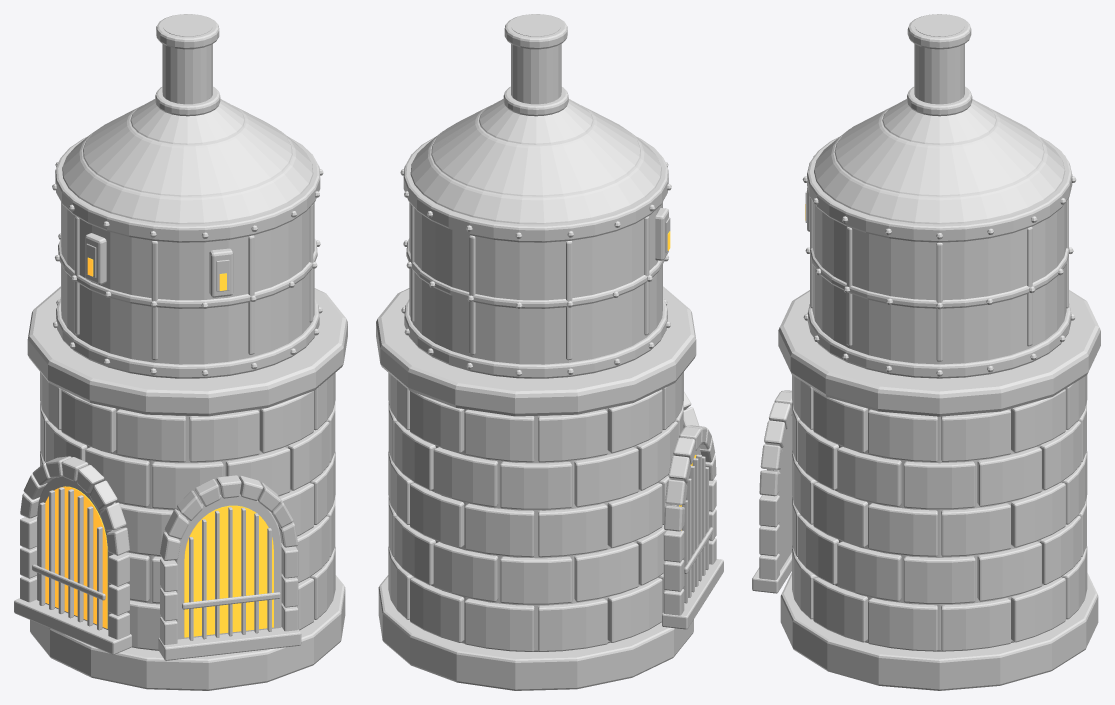
File: furnace-study.fbx
3 views of the same model, side by side, from view 1: azimuth 30°, elevation 25°; view 2: azimuth 150°, elevation 25°; view 3: azimuth 270°, elevation 25° (orthographic).
Visible parts, largest first — view 1: Pressure vessel, Overhanging dressed cornice, Formed hood, Foundation, Pressed shoulder, Irregular contained coal glow.001, Bronze pressure band.002, Bronze pressure band, Irregular contained coal glow, Hood neck, Basalt course 4 block 8, Basalt course 4 block 7 (+58 smaller); view 2: Pressure vessel, Overhanging dressed cornice, Foundation, Formed hood, Pressed shoulder, Bronze pressure band.002, Bronze pressure band, Hood neck, Basalt course 1 block 3, Basalt course 3 block 3, Basalt course 2 block 3, Basalt course 0 block 3 (+37 smaller); view 3: Pressure vessel, Overhanging dressed cornice, Foundation, Formed hood, Pressed shoulder, Bronze pressure band.002, Bronze pressure band, Hood neck, Basalt course 3 block 11, Basalt course 1 block 11, Basalt course 2 block 11, Basalt course 2 block 0 (+37 smaller).
Boxes of the visible parts, <box> form: Pressure vessel: <box>61,202,314,364</box>; Overhanging dressed cornice: <box>27,286,347,416</box>; Formed hood: <box>83,105,292,196</box>; Foundation: <box>30,575,345,690</box>; Pressed shoulder: <box>62,130,313,224</box>; Irregular contained coal glow.001: <box>184,505,273,637</box>; Bronze pressure band.002: <box>55,136,320,242</box>; Bronze pressure band: <box>56,298,319,378</box>; Irregular contained coal glow: <box>45,486,107,628</box>; Hood neck: <box>130,99,244,144</box>; Basalt course 4 block 8: <box>189,409,259,462</box>; Basalt course 4 block 7: <box>116,409,185,462</box>; Pressure vessel: <box>409,202,662,364</box>; Overhanging dressed cornice: <box>376,286,696,416</box>; Foundation: <box>378,575,693,690</box>; Formed hood: <box>431,105,640,196</box>; Pressed shoulder: <box>410,130,661,224</box>; Bronze pressure band.002: <box>403,136,668,242</box>; Bronze pressure band: <box>404,298,667,378</box>; Hood neck: <box>479,99,593,144</box>; Basalt course 1 block 3: <box>500,556,572,604</box>; Basalt course 3 block 3: <box>500,461,572,509</box>; Basalt course 2 block 3: <box>464,503,534,557</box>; Basalt course 0 block 3: <box>464,598,534,651</box>; Pressure vessel: <box>812,201,1066,364</box>; Overhanging dressed cornice: <box>778,290,1100,416</box>; Foundation: <box>780,572,1098,690</box>; Formed hood: <box>834,105,1044,196</box>; Pressed shoulder: <box>814,129,1065,224</box>; Bronze pressure band.002: <box>807,136,1072,242</box>; Bronze pressure band: <box>807,303,1071,378</box>; Hood neck: <box>882,99,996,144</box>; Basalt course 3 block 11: <box>903,461,975,509</box>; Basalt course 1 block 11: <box>903,556,975,603</box>; Basalt course 2 block 11: <box>868,503,937,556</box>; Basalt course 2 block 0: <box>941,503,1010,556</box>.
Size of the model in its own units: 439 by 832 by 439.
